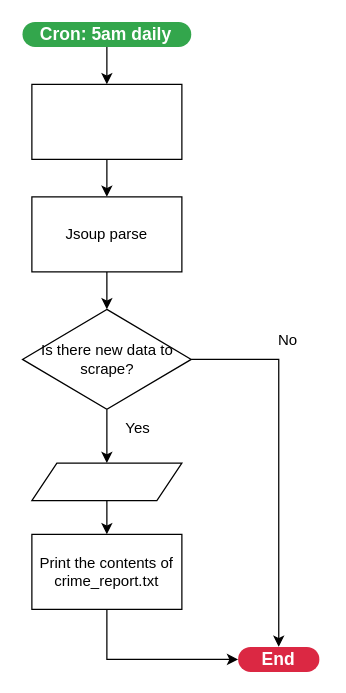
Image size: 346x693. Some labels were removed from this diagram. The shapes that lost their labels are listed below. From the top down, each one's centre as x and y in pixels, then its label:
At point (106, 121): "Scrape the West Lafayette Campus Daily Crime Log and fetch new data.".
At point (106, 481): "Overwrite to crime_report.txt".
